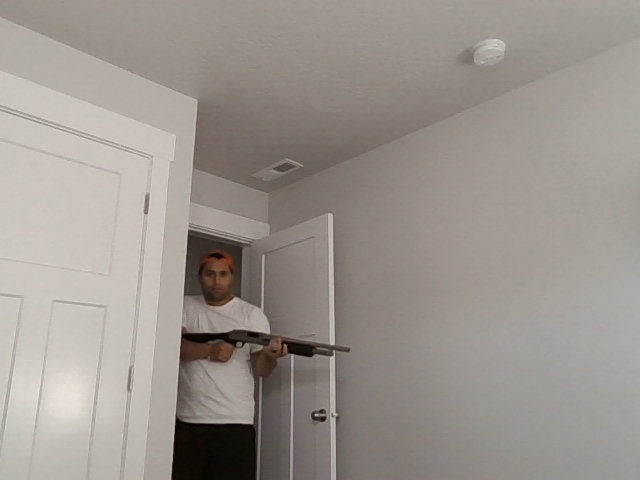shotgun: (183, 326, 351, 359)
